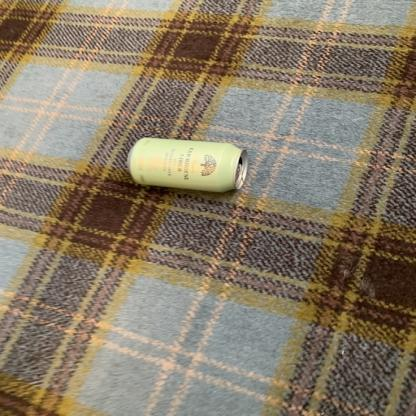trash: (128, 139, 250, 195)
